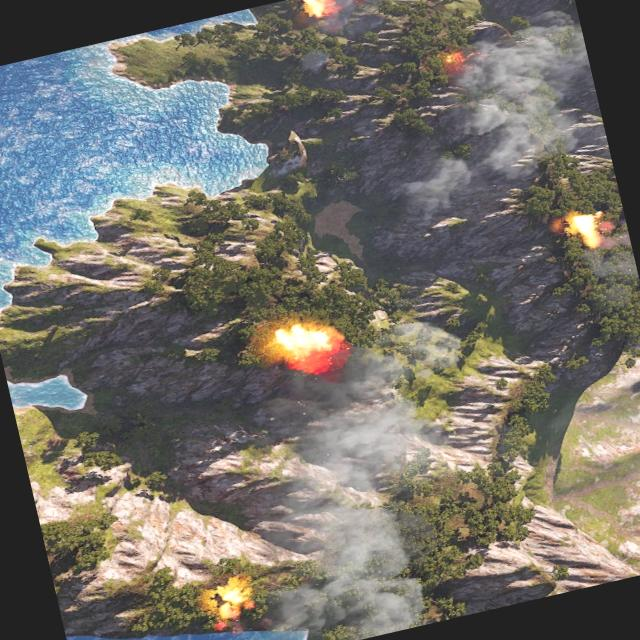fire: (268, 316, 340, 364), (202, 582, 250, 624), (566, 211, 604, 251), (436, 48, 472, 76), (300, 0, 327, 18)
smoke: (200, 312, 516, 640), (358, 3, 616, 229), (286, 0, 432, 77), (574, 218, 638, 284), (197, 614, 263, 640)
